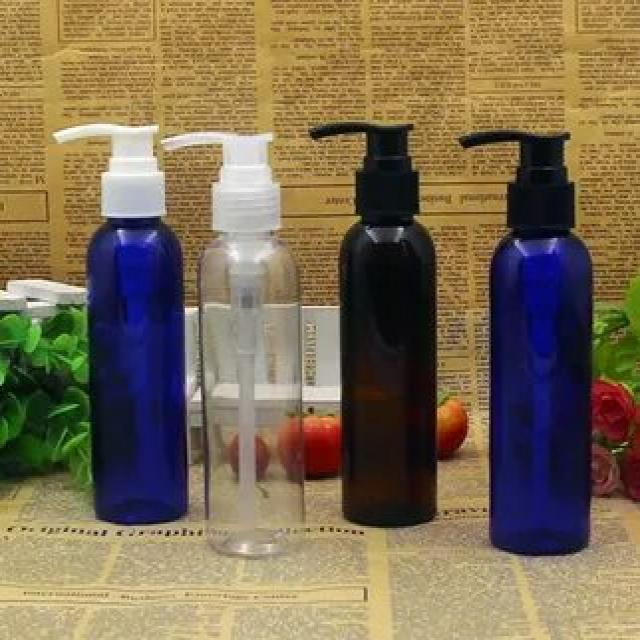brown: (340, 215, 437, 527)
